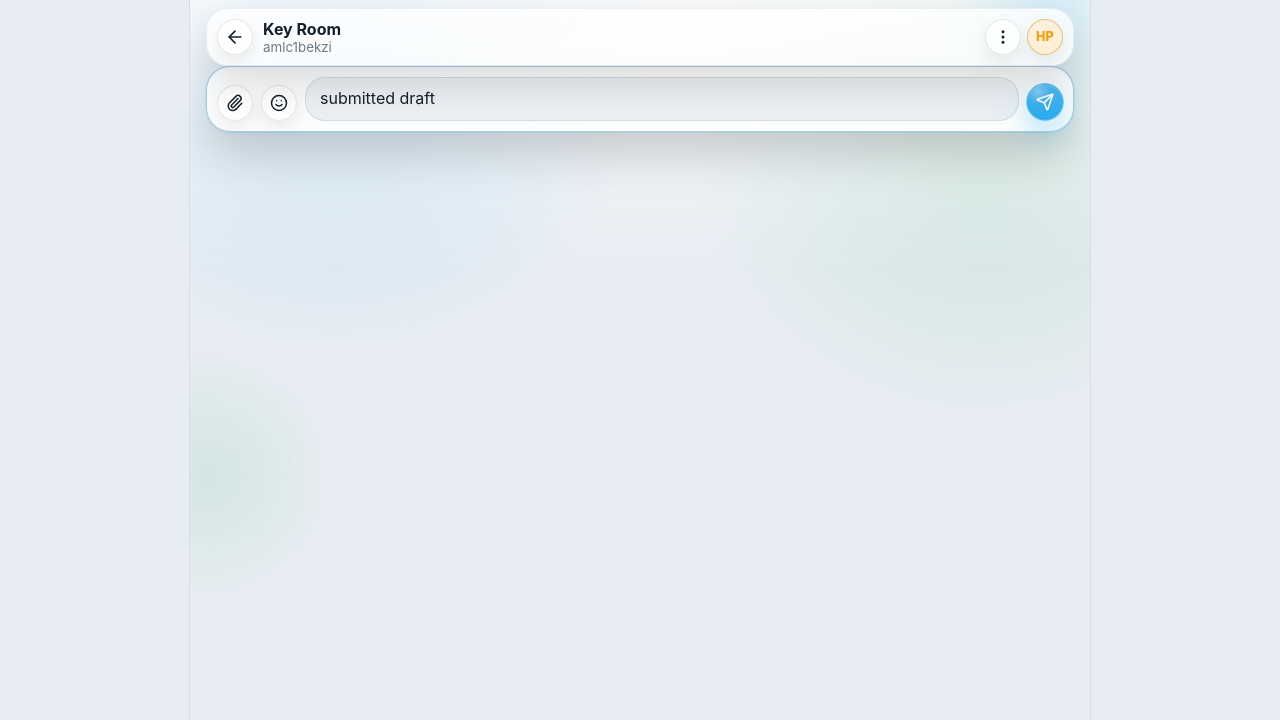
Test case: ChatRoomView › keeps newer same-page draft changes when a submitted send finishes
This screenshot has width=1280, height=720.
Expected: the text box with placeholder "Message" holds "submitted draft", left=305, top=77, right=1019, bottom=121
Click the button named "Send". click: click(1045, 102)
box: left=1026, top=83, right=1064, bottom=120
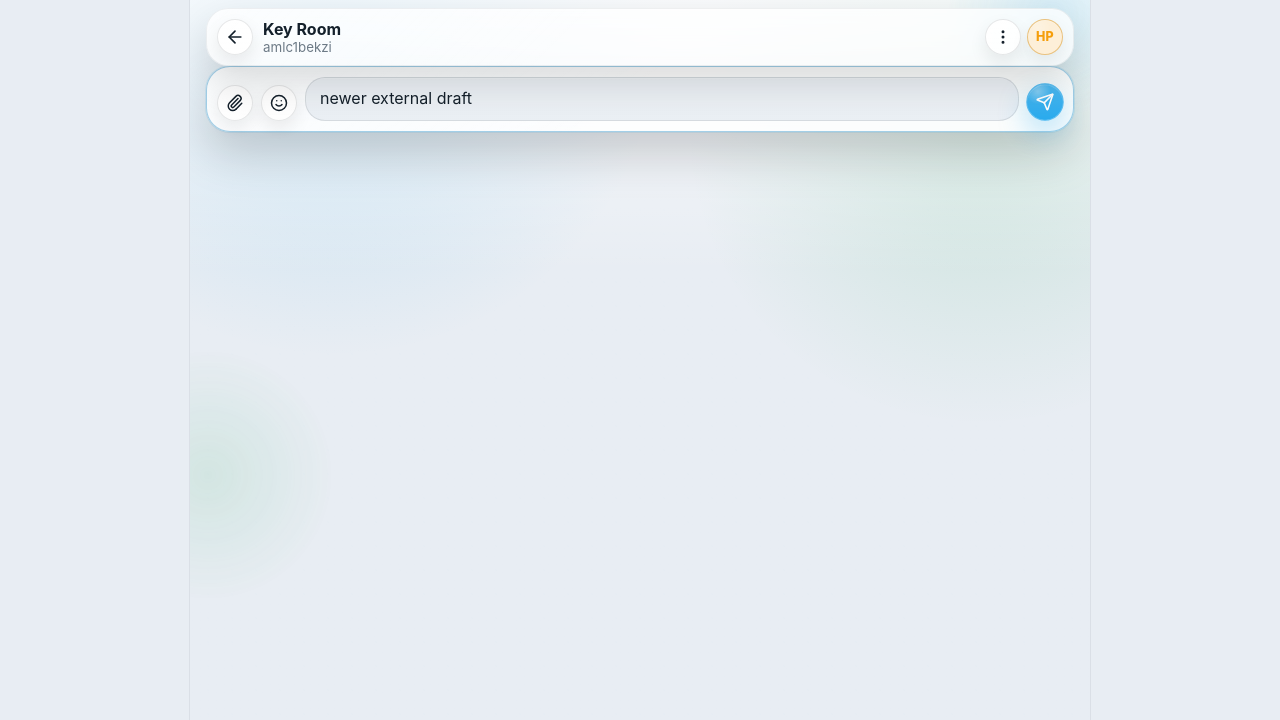
Now the text box with placeholder "Message" holds "newer external draft", box left=305, top=77, right=1019, bottom=121
